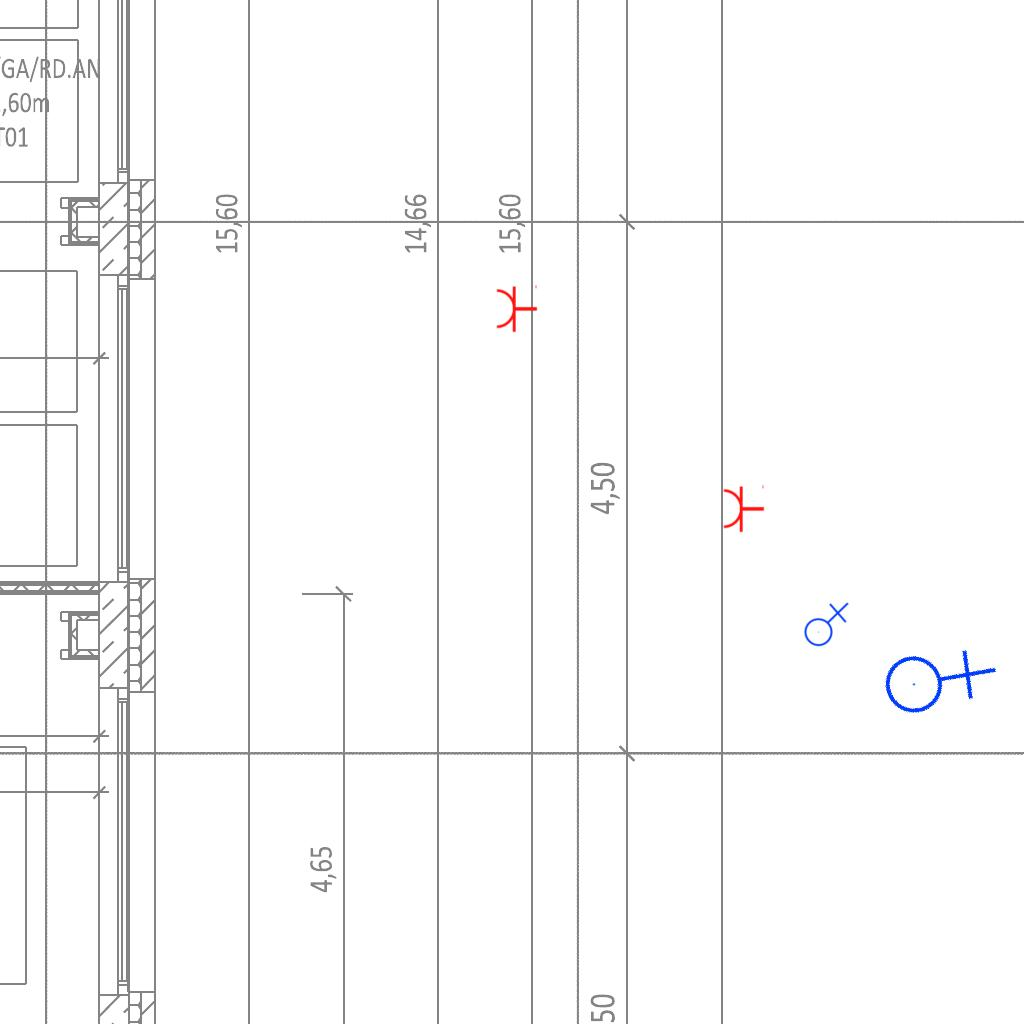Elektroanschluss_allgemein_230V_Geraeteanschlussdose_230V: (866, 610, 1001, 744), (800, 600, 849, 647)
Schukosteckdose_einfach: (722, 483, 765, 533), (495, 283, 538, 333)
